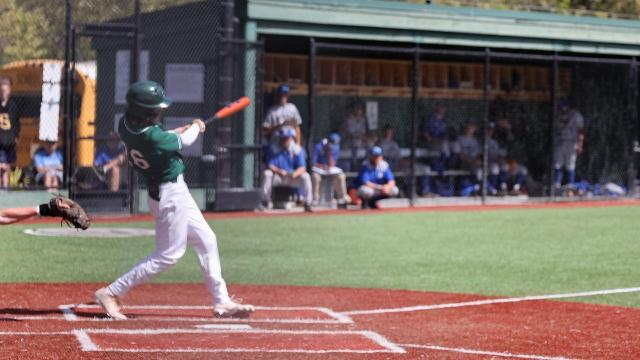baseball bat: (203, 96, 251, 125)
